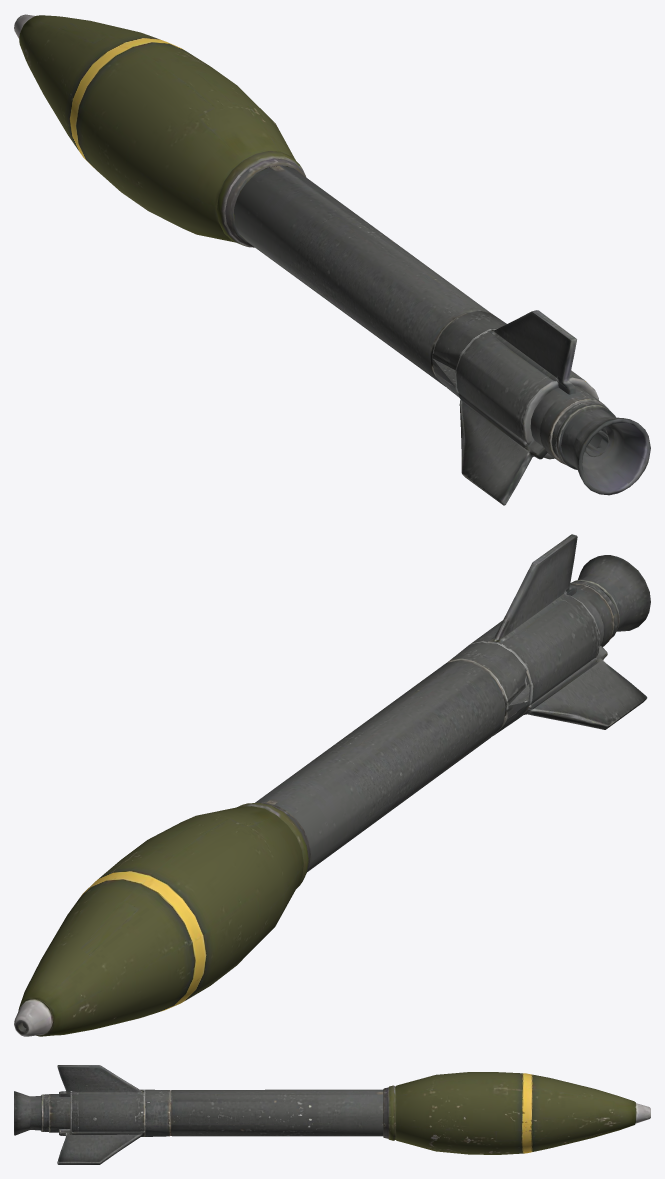
File: rocket.glb
The picture shows the model from 3 angles, top to bottom: view 1: azimuth 30°, elevation 25°; view 2: azimuth 150°, elevation 25°; view 3: azimuth 270°, elevation 25°; orthographic projection. The views are drawn at different scales.
Visible parts, largest first — view 1: rocket; view 2: rocket; view 3: rocket.
Part boxes in pixels (left/top/right/bottom): rocket: left=14, top=14, right=650, bottom=505; rocket: left=14, top=534, right=650, bottom=1036; rocket: left=14, top=1065, right=650, bottom=1164.
Bounding box in the file's own units: 0.1044 × 0.1108 × 0.75.
1 material, 1 textured.
